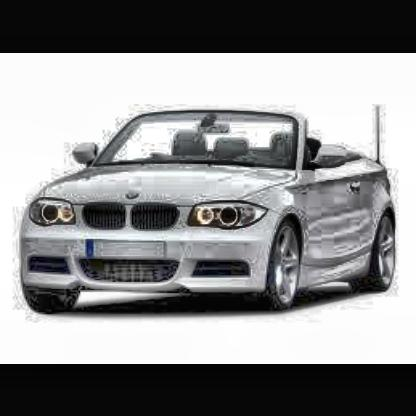BMW 1 Series Convertible 2012: (18, 101, 400, 317)
